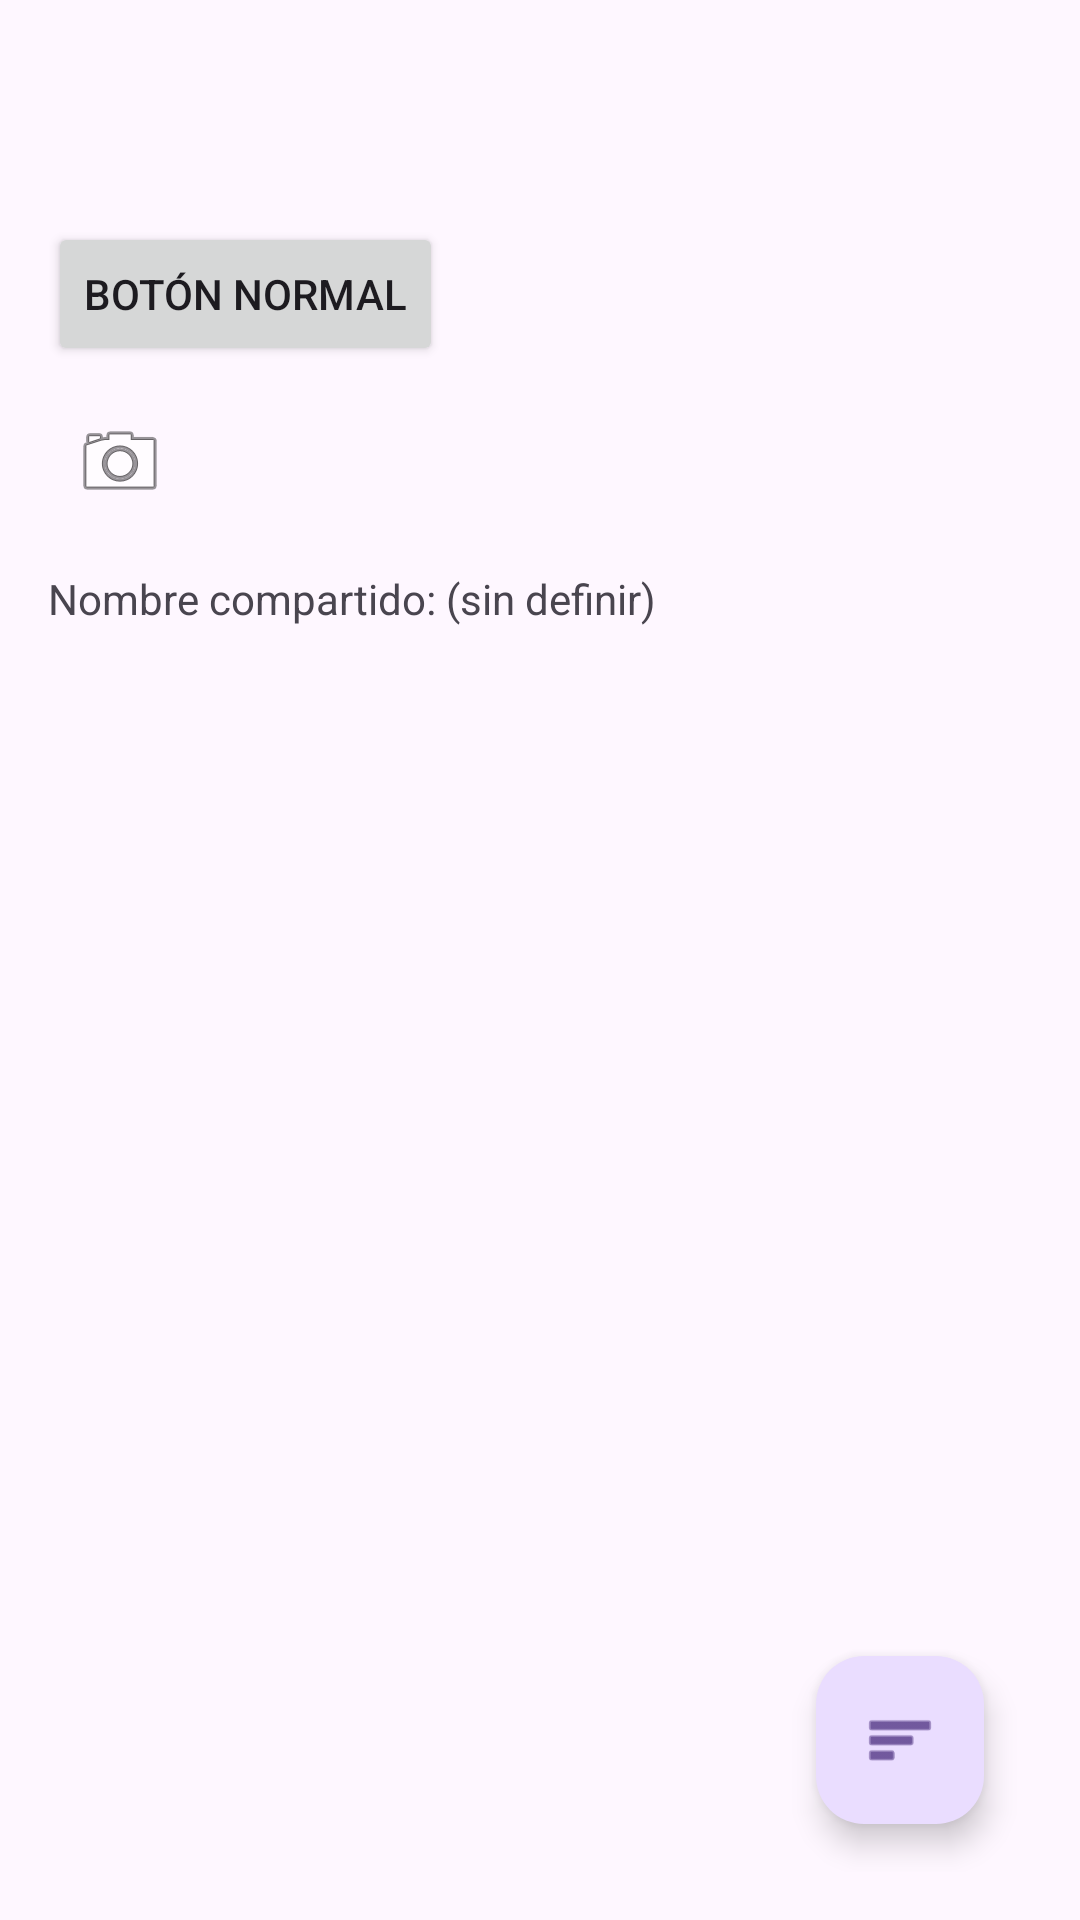

Locate icon controls on the screen. Image size 1080×1920, boxes as (x1,y1,x2,y2).
Botón de imagen: (83,431,157,490)
Ir a Lista: (816,1656,984,1824)
